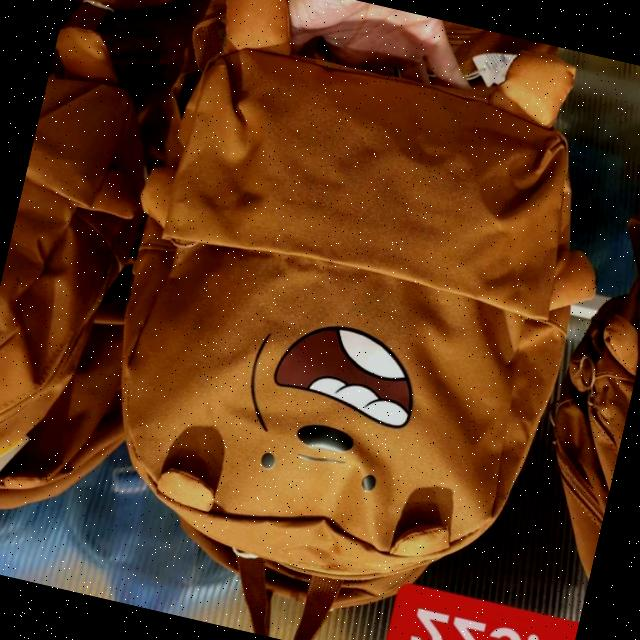Handbag: (65, 25, 611, 640)
